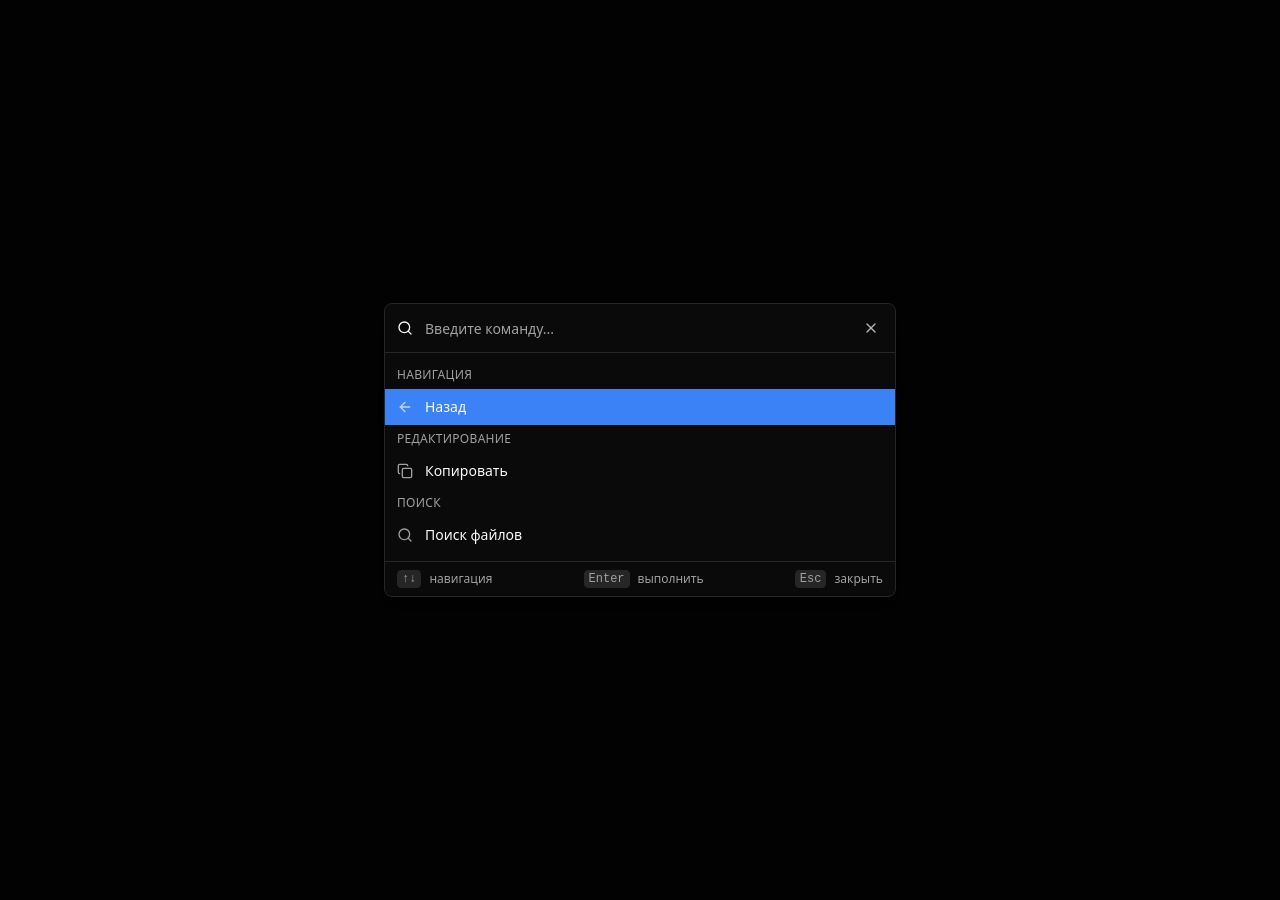
CommandPalette › typing filters commands by title
Type "Копир" into the field with placeholder "Введите команду..." at [648, 328], box [413,304,883,352]
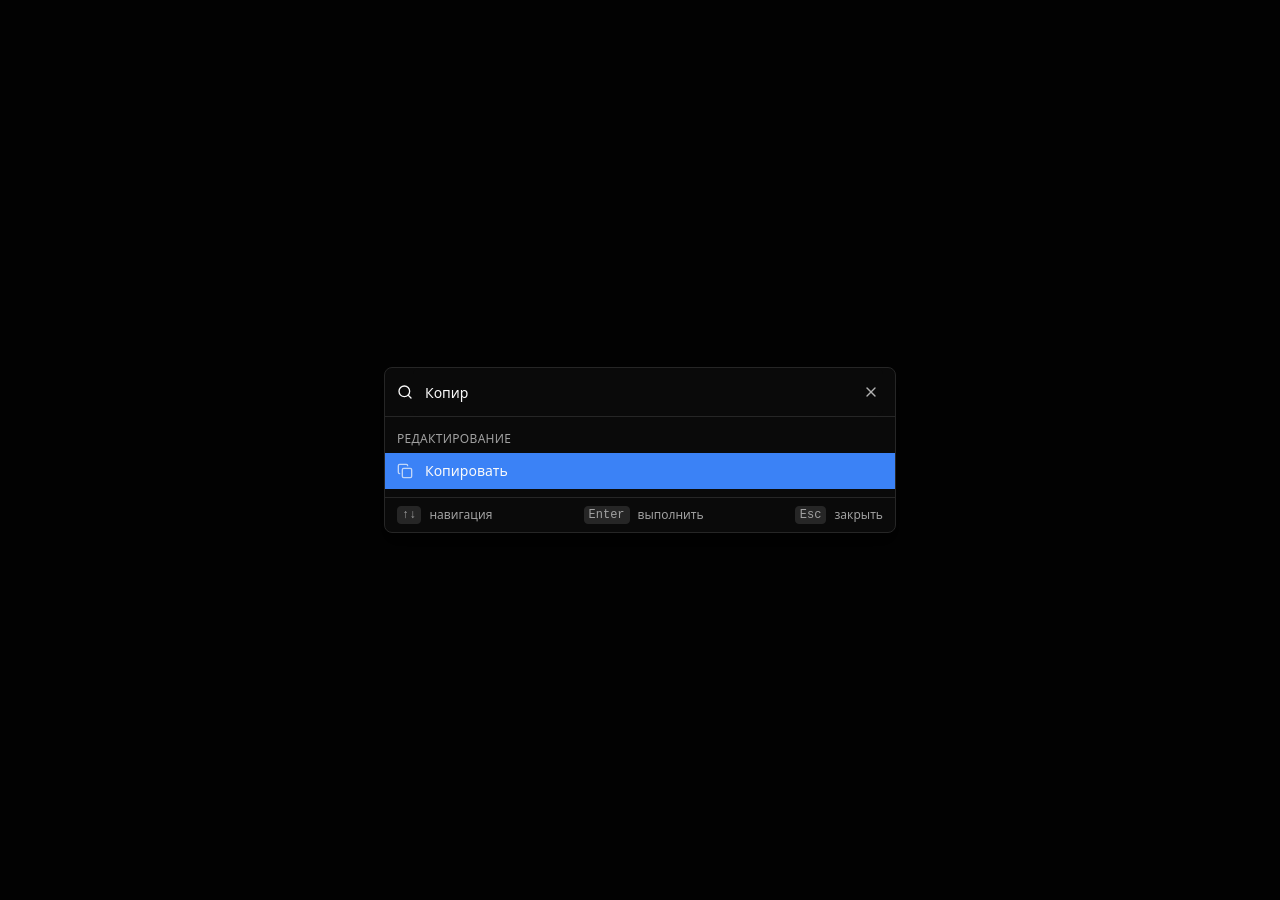
Expected: the text "Копировать" is shown, [425,461,508,480]
Expected: the button "Назад" is gone
Expected: the button "Поиск файлов" is gone
